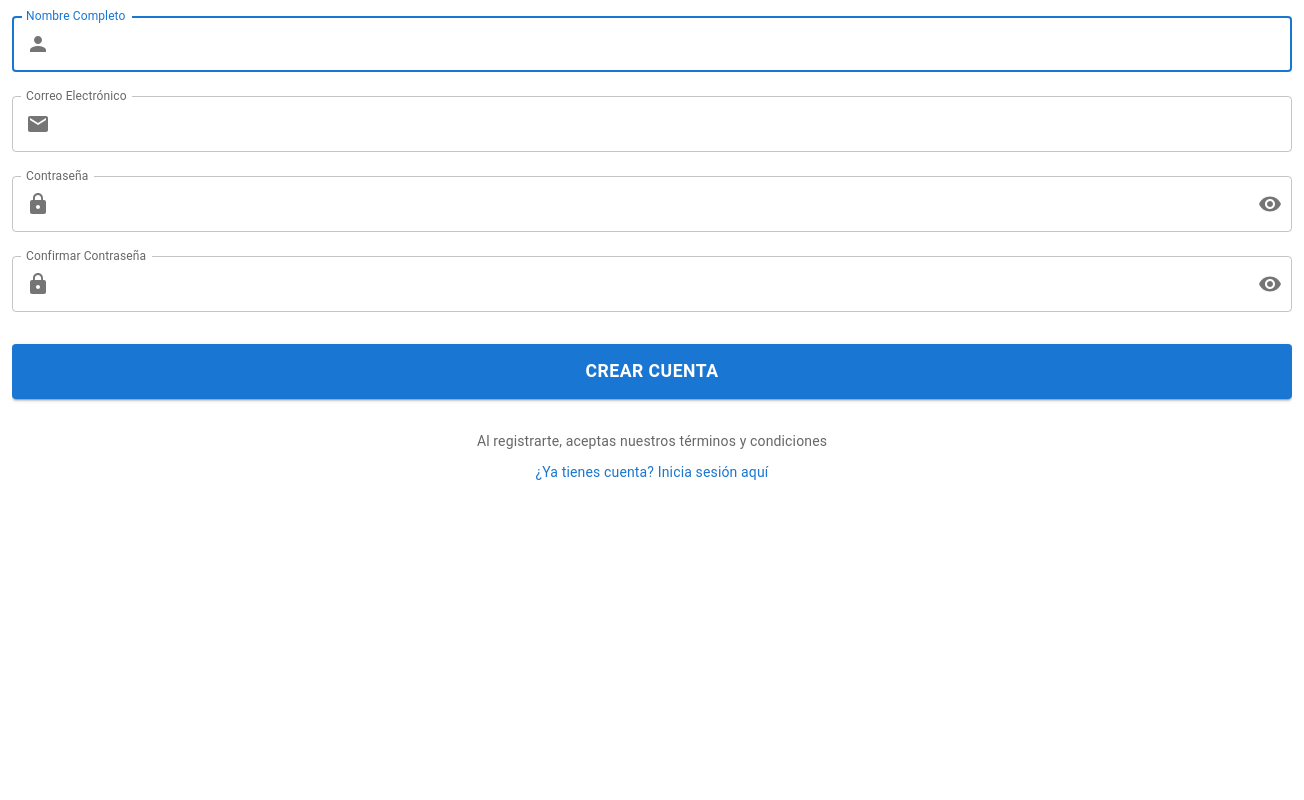
Scenario: RegisterForm › Form Validation › shows validation error for short password
Type "123" into the password field labelled "Contraseña" at [650, 204], box [58,176,1242,232]
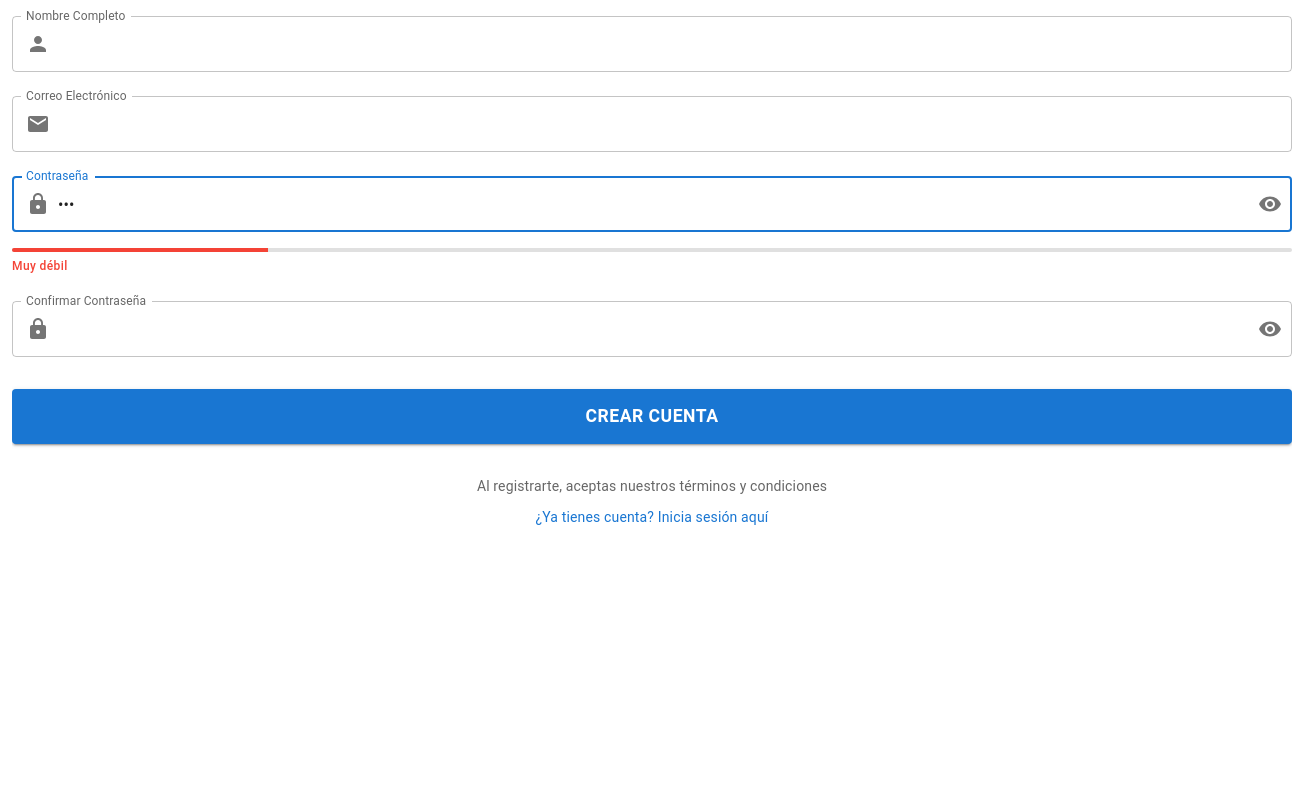
Click the button "Crear Cuenta" at [652, 416], box [12,389,1292,444]
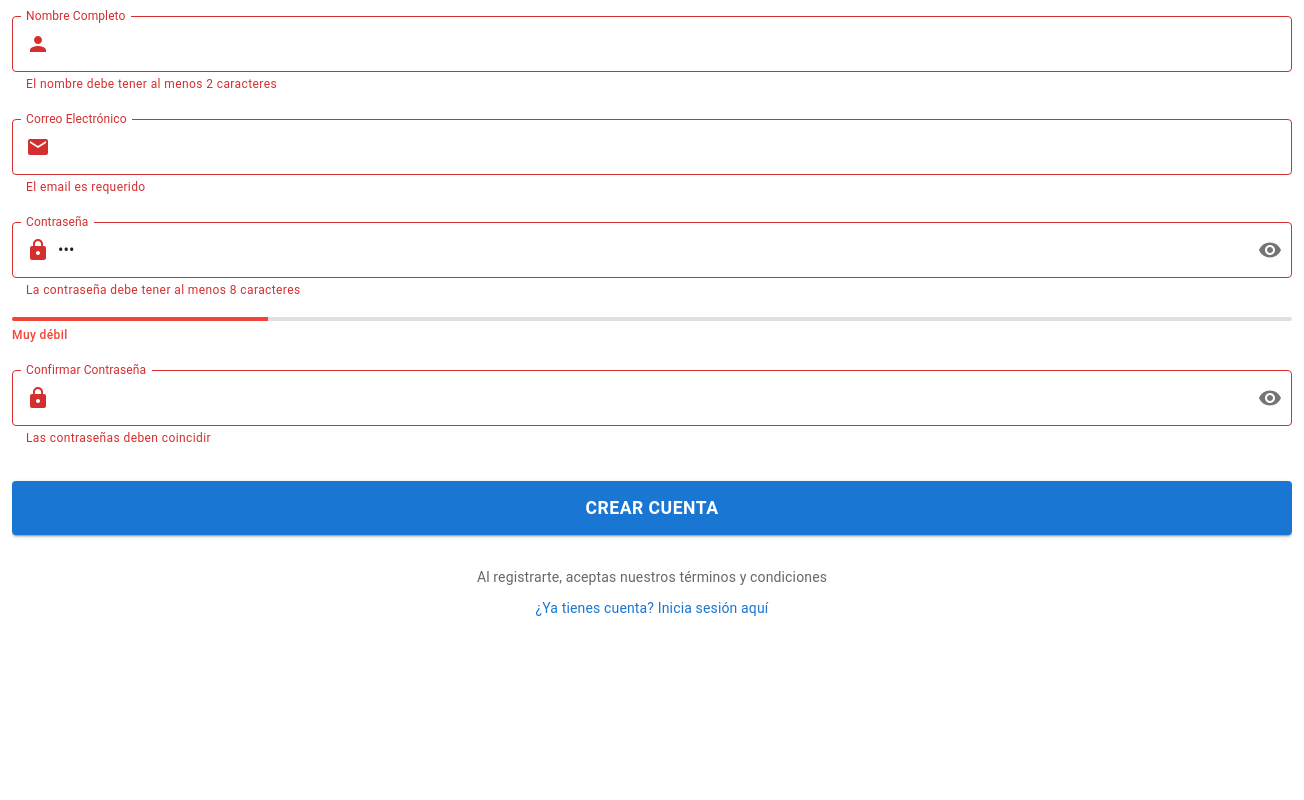
Expected: the text "La contraseña debe tener al menos 8 caracteres" is shown, [26,283,300,297]
